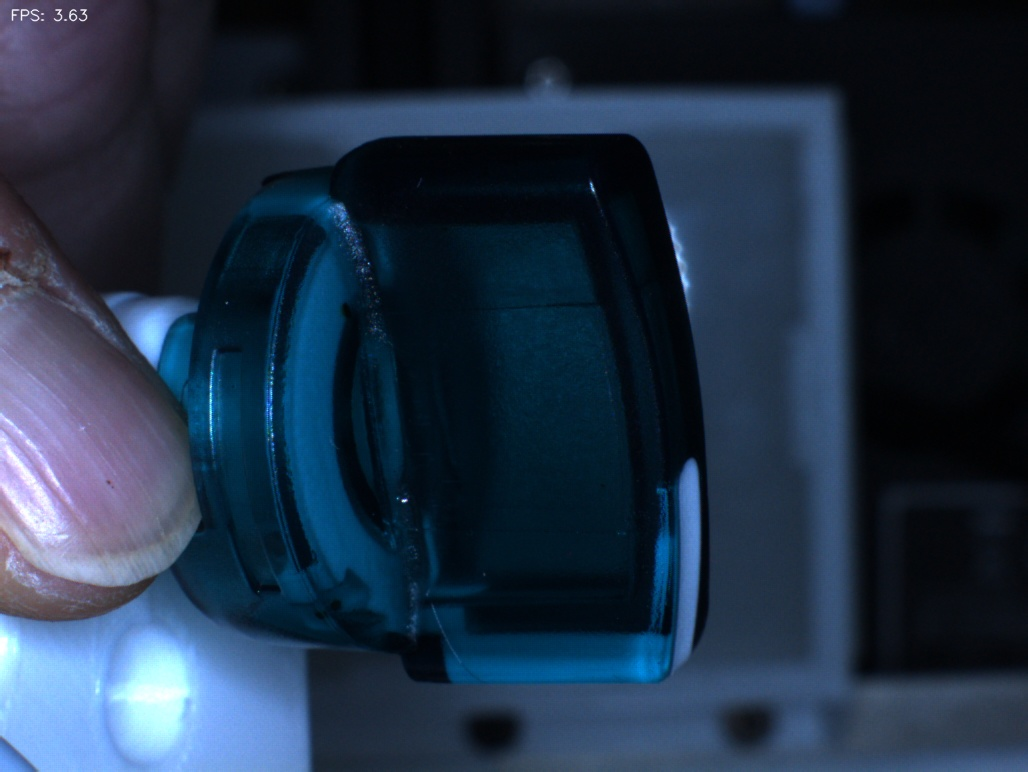PointNoir: (306, 265, 382, 352)
